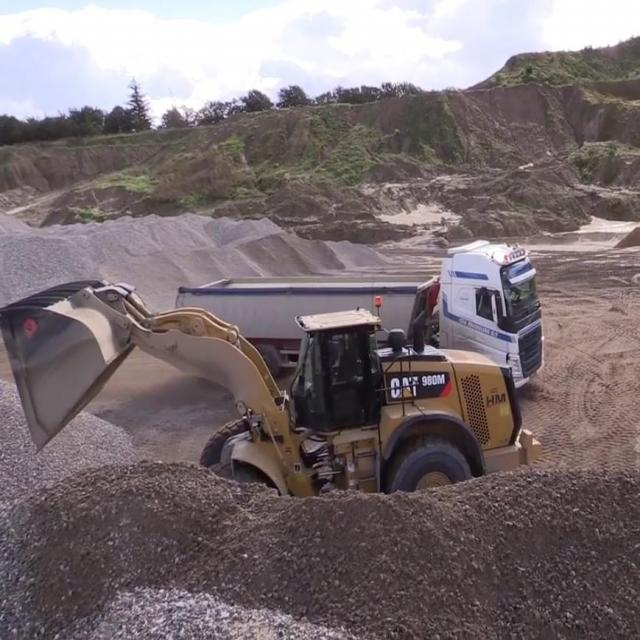Dump Truck: (175, 236, 545, 388)
Loader: (0, 273, 536, 499)
